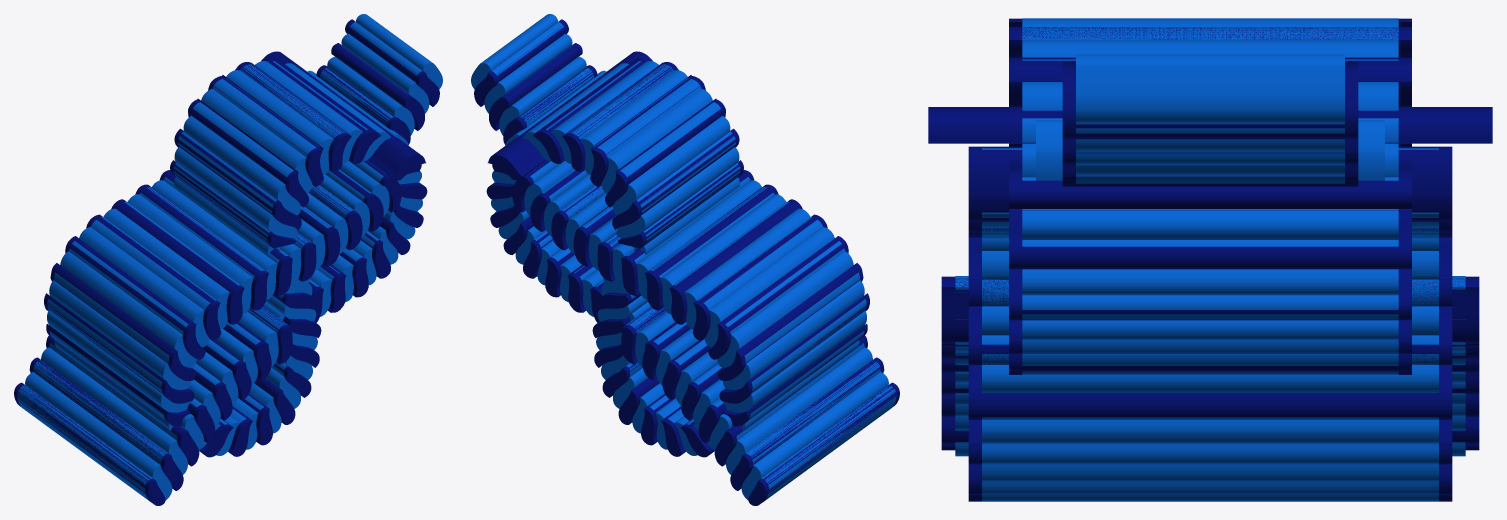
File: U+1FAA2.obj
3 views of the same model, side by side, from view 1: azimuth 30°, elevation 25°; view 2: azimuth 150°, elevation 25°; view 3: azimuth 270°, elevation 25° (orthographic). The views are drawn at different scales.
Visible parts, largest first — view 1: U+1FAA2_layer07_obj00, U+1FAA2_layer04_obj00, U+1FAA2_layer08_obj00, U+1FAA2_layer09_obj00, U+1FAA2_layer05_obj00, U+1FAA2_layer10_obj00, U+1FAA2_layer00_obj00, U+1FAA2_layer01_obj00, U+1FAA2_layer11_obj00; view 2: U+1FAA2_layer07_obj00, U+1FAA2_layer04_obj00, U+1FAA2_layer08_obj00, U+1FAA2_layer09_obj00, U+1FAA2_layer05_obj00, U+1FAA2_layer10_obj00, U+1FAA2_layer00_obj00, U+1FAA2_layer01_obj00, U+1FAA2_layer11_obj00; view 3: U+1FAA2_layer04_obj00, U+1FAA2_layer07_obj00, U+1FAA2_layer05_obj00, U+1FAA2_layer00_obj00, U+1FAA2_layer08_obj00, U+1FAA2_layer01_obj00, U+1FAA2_layer11_obj00, U+1FAA2_layer10_obj00, U+1FAA2_layer03_obj00, U+1FAA2_layer09_obj00.
Boxes of the visible parts, bbox=[...] form: U+1FAA2_layer07_obj00: bbox=[47, 161, 389, 455]; U+1FAA2_layer04_obj00: bbox=[173, 61, 422, 316]; U+1FAA2_layer08_obj00: bbox=[44, 160, 401, 457]; U+1FAA2_layer09_obj00: bbox=[17, 307, 287, 501]; U+1FAA2_layer05_obj00: bbox=[170, 58, 427, 322]; U+1FAA2_layer10_obj00: bbox=[14, 306, 292, 505]; U+1FAA2_layer00_obj00: bbox=[320, 14, 442, 135]; U+1FAA2_layer01_obj00: bbox=[316, 19, 439, 144]; U+1FAA2_layer11_obj00: bbox=[261, 51, 425, 180]; U+1FAA2_layer07_obj00: bbox=[524, 161, 866, 455]; U+1FAA2_layer04_obj00: bbox=[491, 61, 740, 316]; U+1FAA2_layer08_obj00: bbox=[512, 160, 869, 457]; U+1FAA2_layer09_obj00: bbox=[626, 306, 896, 501]; U+1FAA2_layer05_obj00: bbox=[486, 58, 743, 322]; U+1FAA2_layer10_obj00: bbox=[621, 307, 899, 505]; U+1FAA2_layer00_obj00: bbox=[471, 14, 594, 135]; U+1FAA2_layer01_obj00: bbox=[474, 19, 597, 144]; U+1FAA2_layer11_obj00: bbox=[488, 51, 652, 180]; U+1FAA2_layer04_obj00: bbox=[1022, 18, 1398, 374]; U+1FAA2_layer07_obj00: bbox=[982, 148, 1438, 501]; U+1FAA2_layer05_obj00: bbox=[1009, 18, 1411, 374]; U+1FAA2_layer00_obj00: bbox=[1076, 54, 1344, 183]; U+1FAA2_layer08_obj00: bbox=[968, 146, 1452, 501]; U+1FAA2_layer01_obj00: bbox=[1062, 61, 1358, 186]; U+1FAA2_layer11_obj00: bbox=[928, 107, 1492, 143]; U+1FAA2_layer10_obj00: bbox=[941, 276, 1479, 450]; U+1FAA2_layer03_obj00: bbox=[1036, 120, 1384, 180]; U+1FAA2_layer09_obj00: bbox=[955, 276, 1465, 456].
Size of the model in its own units: 0.5642 by 0.5654 by 0.42.
